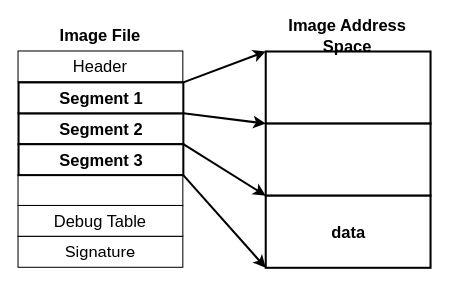
Image size: 449x295. Some labels were removed from this diagram. The shapes that lost their labels are listed below. From the top down, each one's centre as x and y in pixels, then its label:
At pixel 347 87: "text".
At pixel 347 159: "rodata".
At pixel 100 189: "Relocation Table".
